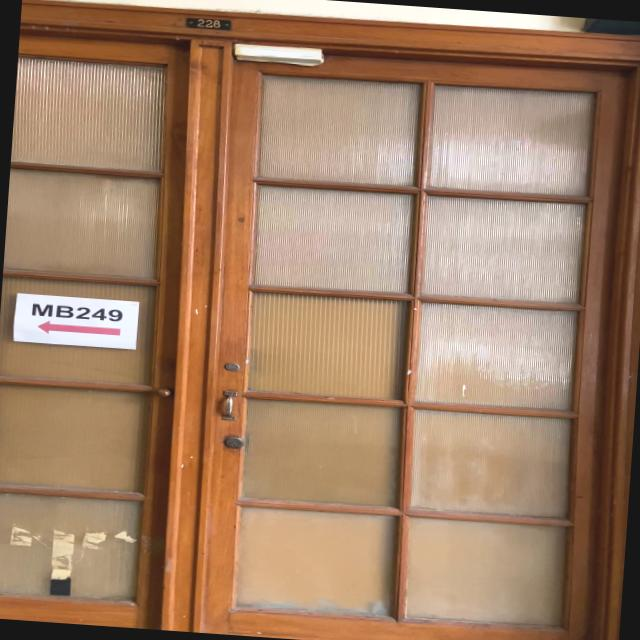room228: (183, 14, 234, 32)
